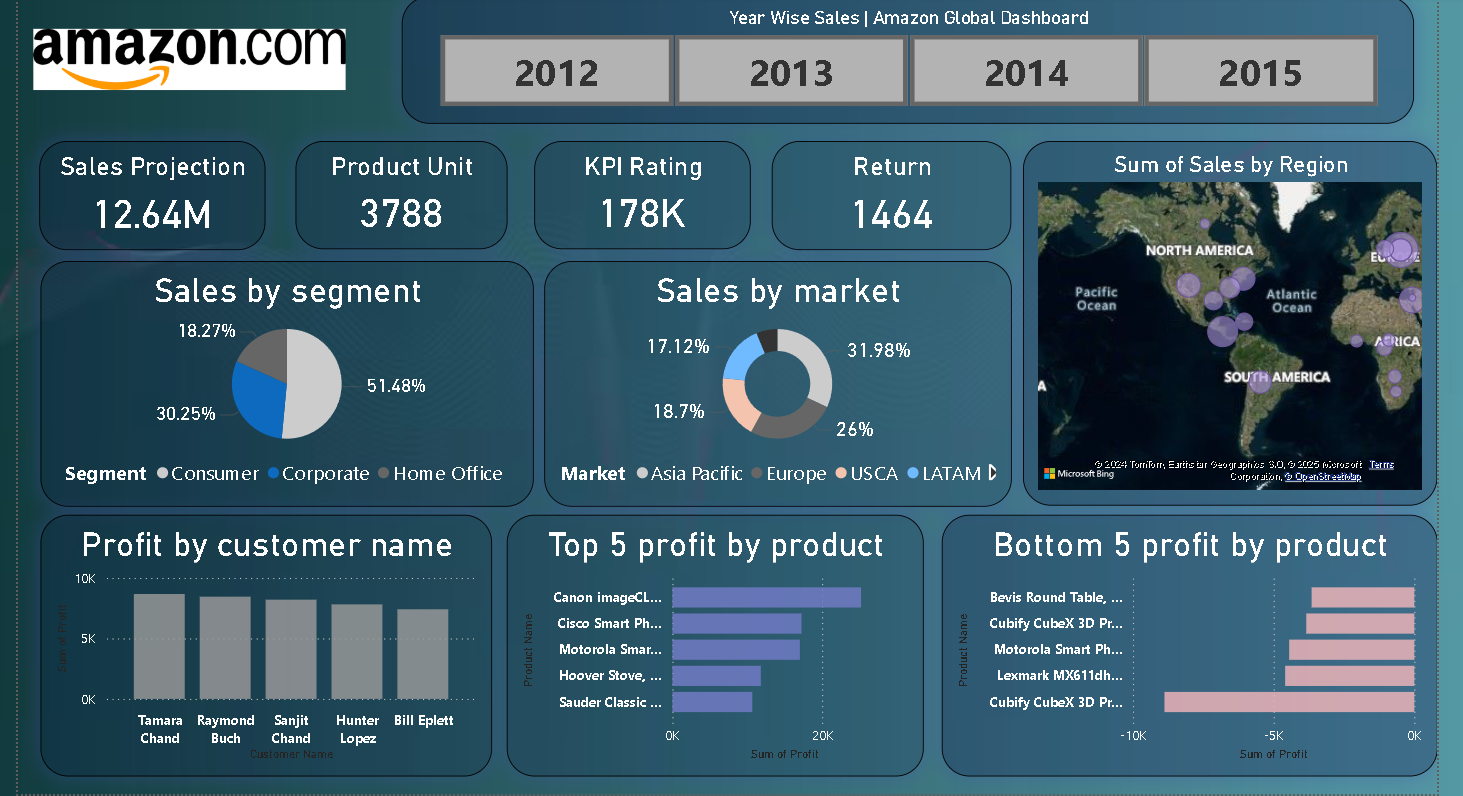

What the dashboard file says about the page in this screenshot:
{"tool":"powerbi","page":{"name":"Page 1","canvas":[1280,720],"ordinal":0},"visuals":[{"type":"card","title":"Sales Projection","fields":{"Values":["Orders.Sales"]},"box":[18.8,131.2,203.8,98.8],"z":0},{"type":"slicer","title":"Year Wise Sales | Amazon Global Dashboard","fields":{"Values":["Orders.year"]},"box":[346.2,0,912.5,115],"z":1000},{"type":"image","box":[8.8,0,291.2,115],"z":2000},{"type":"card","title":"Product Unit","fields":{"Values":["Orders.Product Name"]},"box":[250,131.2,191.2,97.5],"z":3000},{"type":"card","title":"KPI Rating","fields":{"Values":["Orders.Quantity"]},"box":[465,131.2,195,97.5],"z":4000},{"type":"card","title":"Return","fields":{"Values":["Orders.Ship Date"]},"box":[680,131.2,216.2,98.8],"z":5000},{"type":"pieChart","title":"Sales by segment","fields":{"Y":["Orders.Sales"],"Category":["Orders.Segment"]},"box":[20,238.8,445,221.2],"z":6000},{"type":"donutChart","title":"Sales by market","fields":{"Y":["Orders.Sales"],"Category":["Orders.Market"]},"box":[475,238.8,421.2,221.2],"z":7000},{"type":"columnChart","title":"Profit by customer name","fields":{"Category":["Orders.Customer Name"],"Y":["Orders.Profit"]},"box":[20,467.5,407.5,236.2],"z":8000},{"type":"clusteredBarChart","title":"Top 5 profit by product","fields":{"Y":["Orders.Profit"],"Category":["Orders.Product Name"]},"box":[441.2,467.5,376.2,236.2],"z":9000},{"type":"clusteredBarChart","title":"Bottom 5 profit by product ","fields":{"Category":["Orders.Product Name"],"Y":["Orders.Profit"]},"box":[832.5,467.5,447.5,236.2],"z":10000},{"type":"map","fields":{"Category":["Orders.Region"],"Size":["Orders.Sales"]},"box":[906.2,131.2,373.8,328.8],"z":11000}]}

Visuals, with their boxes on the page's 1280x720 design canvas (x1, y1, x2, y2). These are canvas units, not pixel positions in the 1463x796 screenshot, which may show the page scaled, cropped or inside an application window:
"Sales Projection" card: left=19, top=131, right=223, bottom=230
"Year Wise Sales | Amazon Global Dashboard" slicer: left=346, top=0, right=1259, bottom=115
image: left=9, top=0, right=300, bottom=115
"Product Unit" card: left=250, top=131, right=441, bottom=229
"KPI Rating" card: left=465, top=131, right=660, bottom=229
"Return" card: left=680, top=131, right=896, bottom=230
"Sales by segment" pieChart: left=20, top=239, right=465, bottom=460
"Sales by market" donutChart: left=475, top=239, right=896, bottom=460
"Profit by customer name" columnChart: left=20, top=468, right=428, bottom=704
"Top 5 profit by product" clusteredBarChart: left=441, top=468, right=817, bottom=704
"Bottom 5 profit by product " clusteredBarChart: left=832, top=468, right=1280, bottom=704
map - Orders.Region x Orders.Sales: left=906, top=131, right=1280, bottom=460
